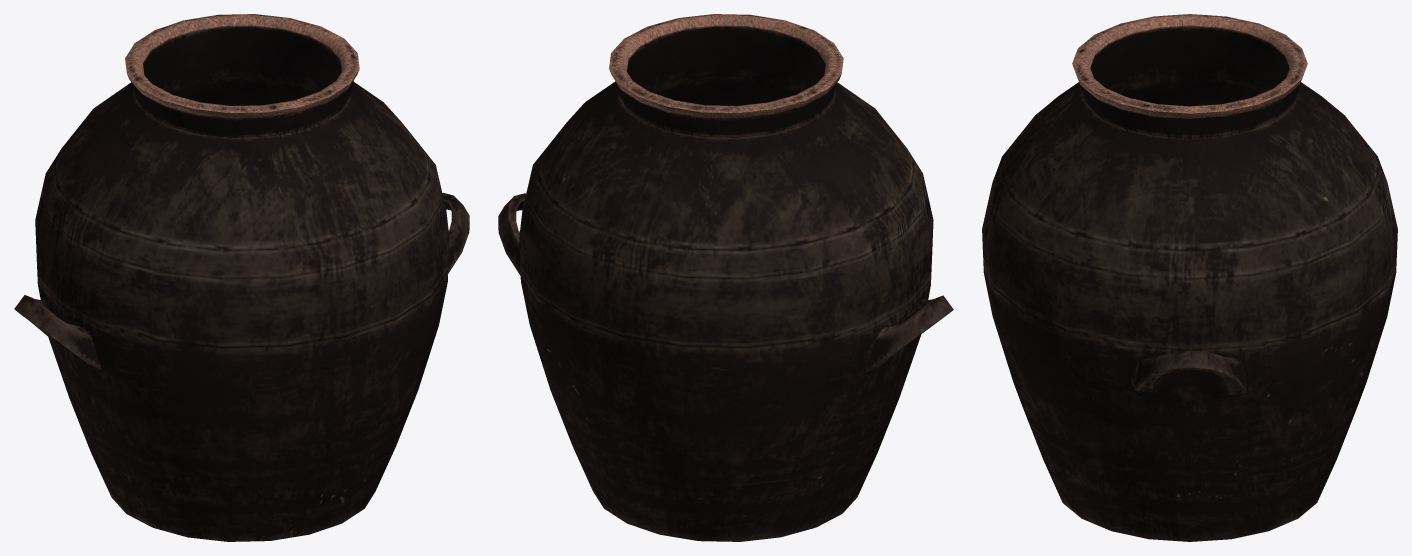
File: hangari.glb
The picture shows the model from 3 angles, left to right: view 1: azimuth 30°, elevation 25°; view 2: azimuth 150°, elevation 25°; view 3: azimuth 270°, elevation 25°; orthographic projection.
Visible parts, largest first — view 1: SM_Jar01c; view 2: SM_Jar01c; view 3: SM_Jar01c.
Boxes of the visible parts, x1=… form: SM_Jar01c: x1=14, y1=14, x2=469, y2=541; SM_Jar01c: x1=498, y1=14, x2=953, y2=541; SM_Jar01c: x1=982, y1=14, x2=1397, y2=541.
Size of the model in its own units: 0.5499 by 0.5038 by 0.4479.
Materials: 1 (1 with a texture image).
